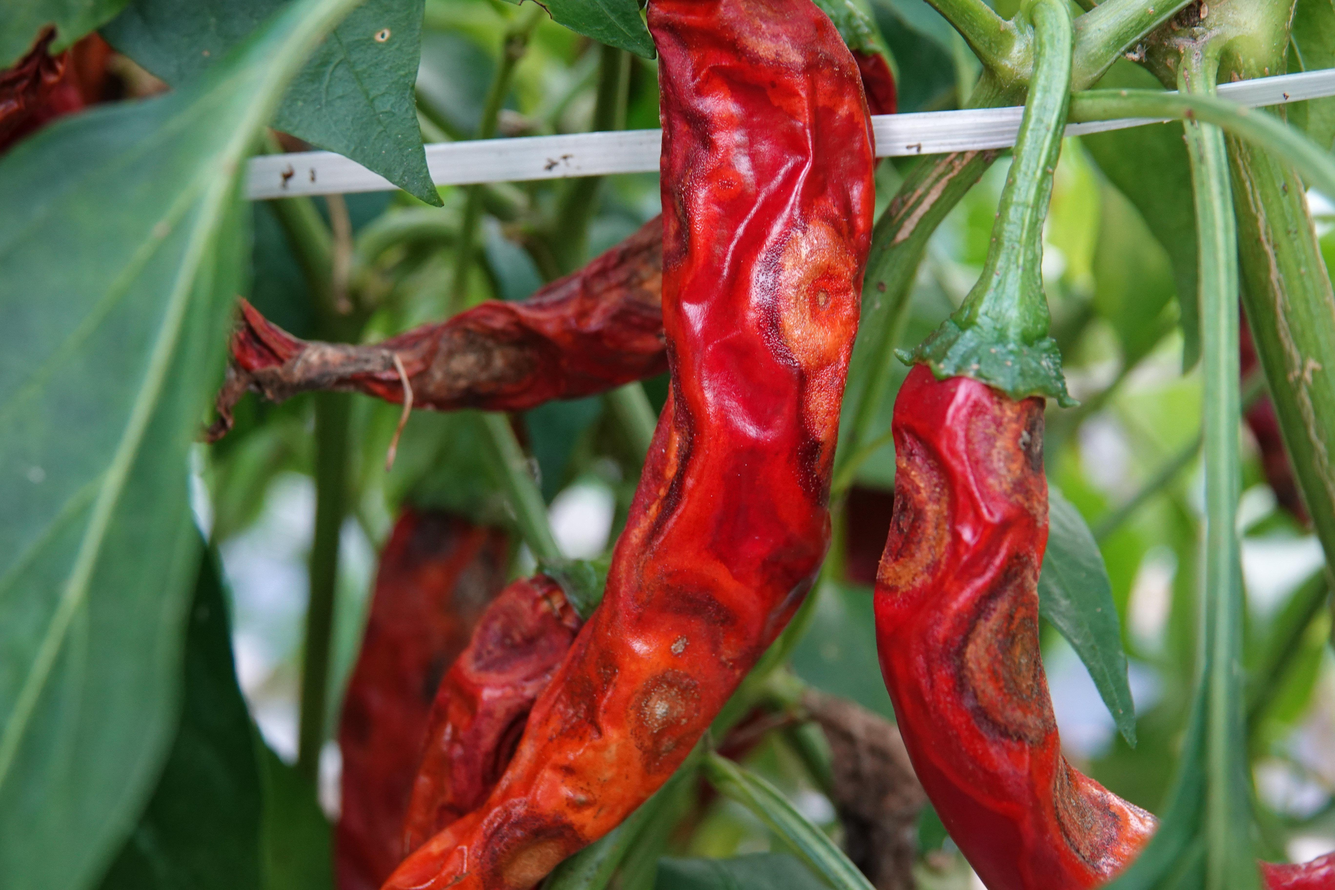Busuk Buah Antraknosa: (375, 1, 880, 886), (876, 318, 1334, 890)
